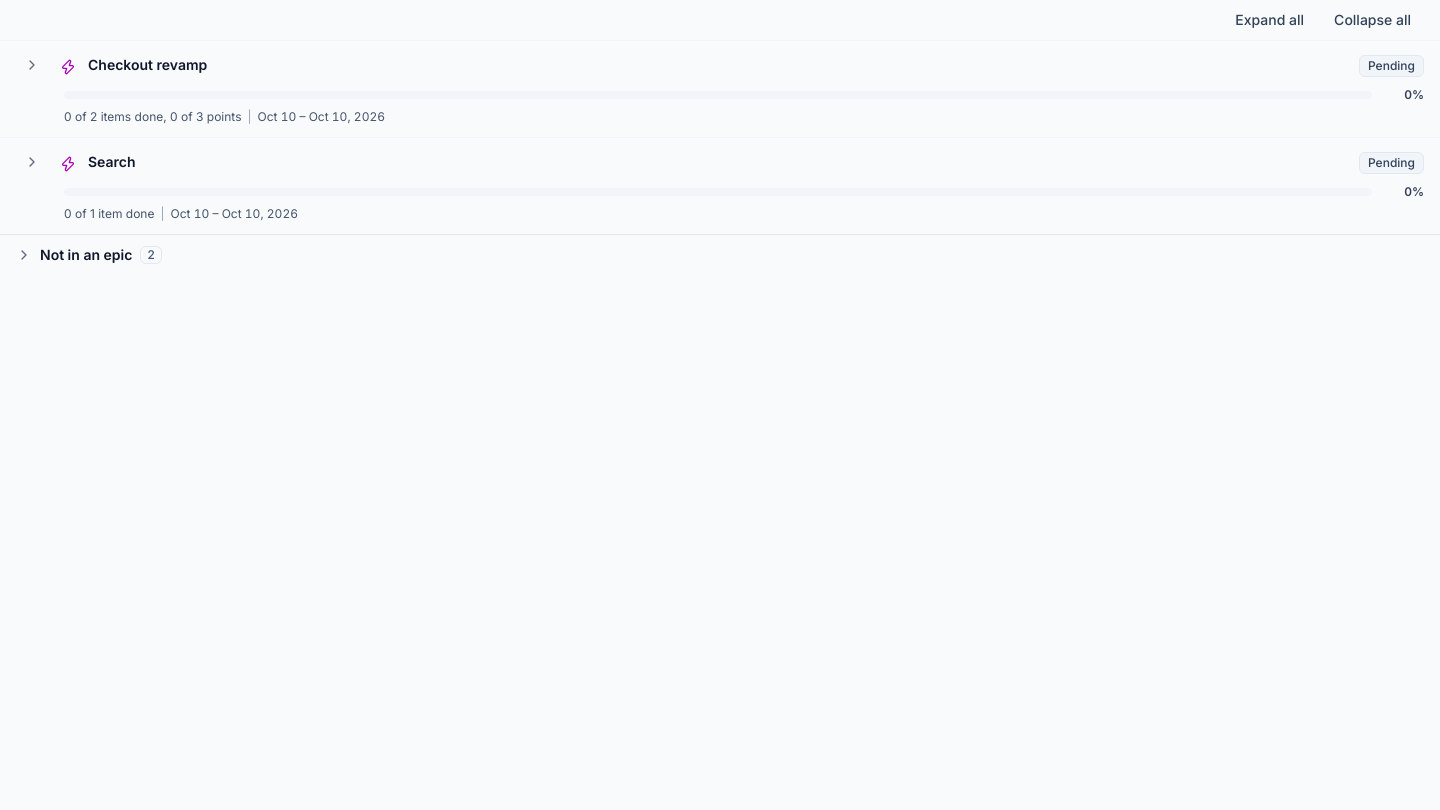
epic hierarchy › keeps the link dialog open and shows the error when linking fails
Click the button named "Expand items of Checkout revamp" at (32, 65), box [16,49,48,81]
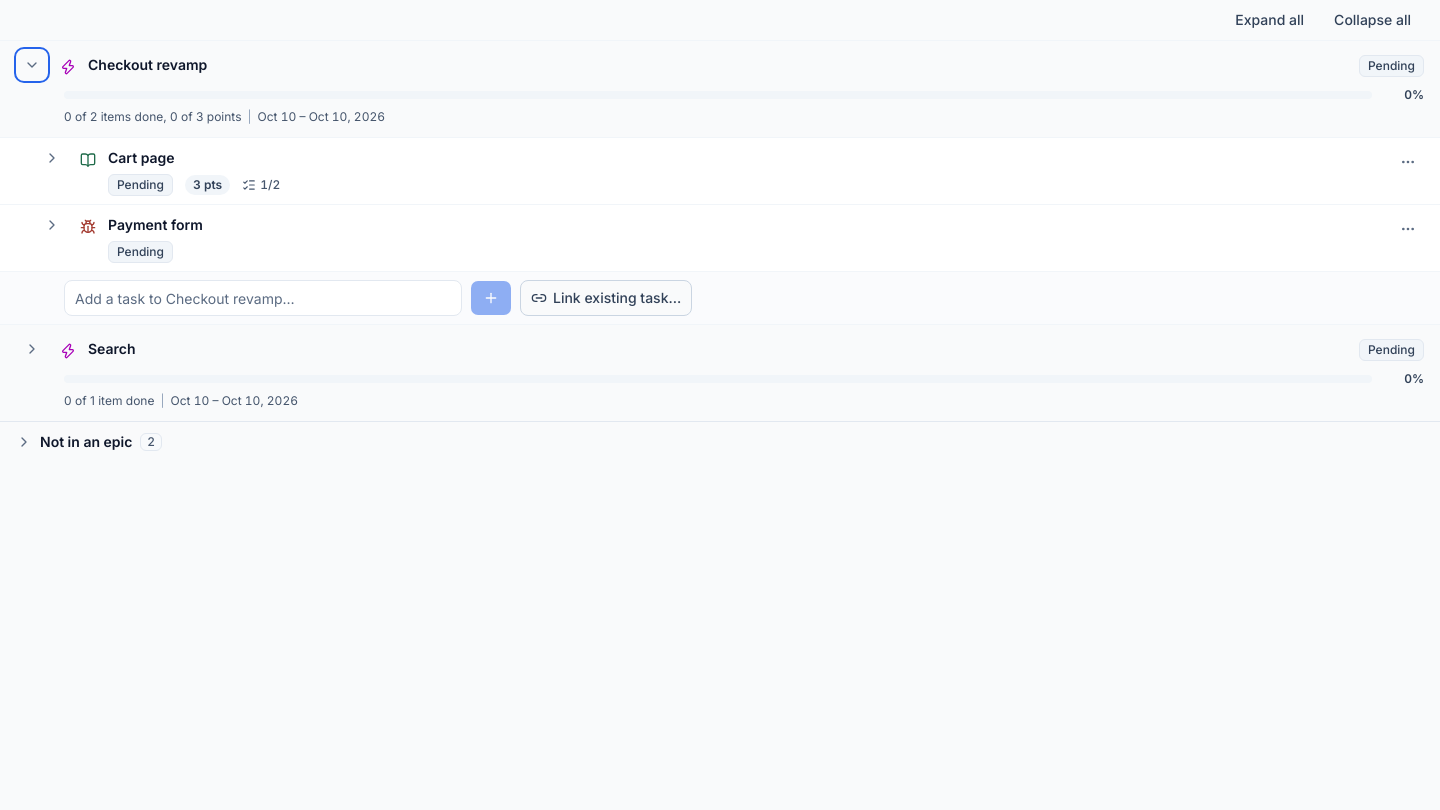
Click the button "Link existing task…" at (606, 298), box [520,280,692,316]
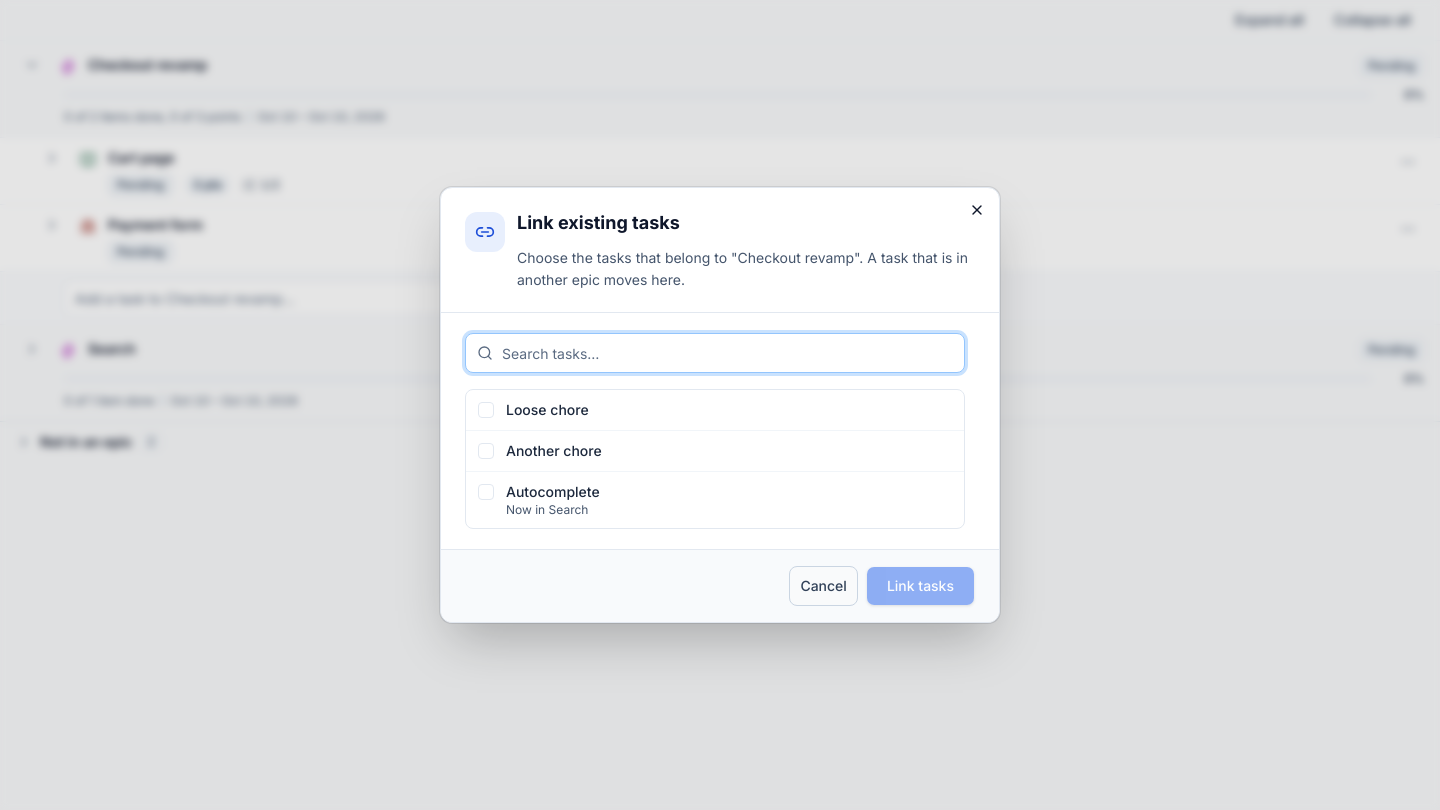
Click the checkbox named "Loose chore" next to "Loose chore" at (486, 410), box [478,402,494,418]
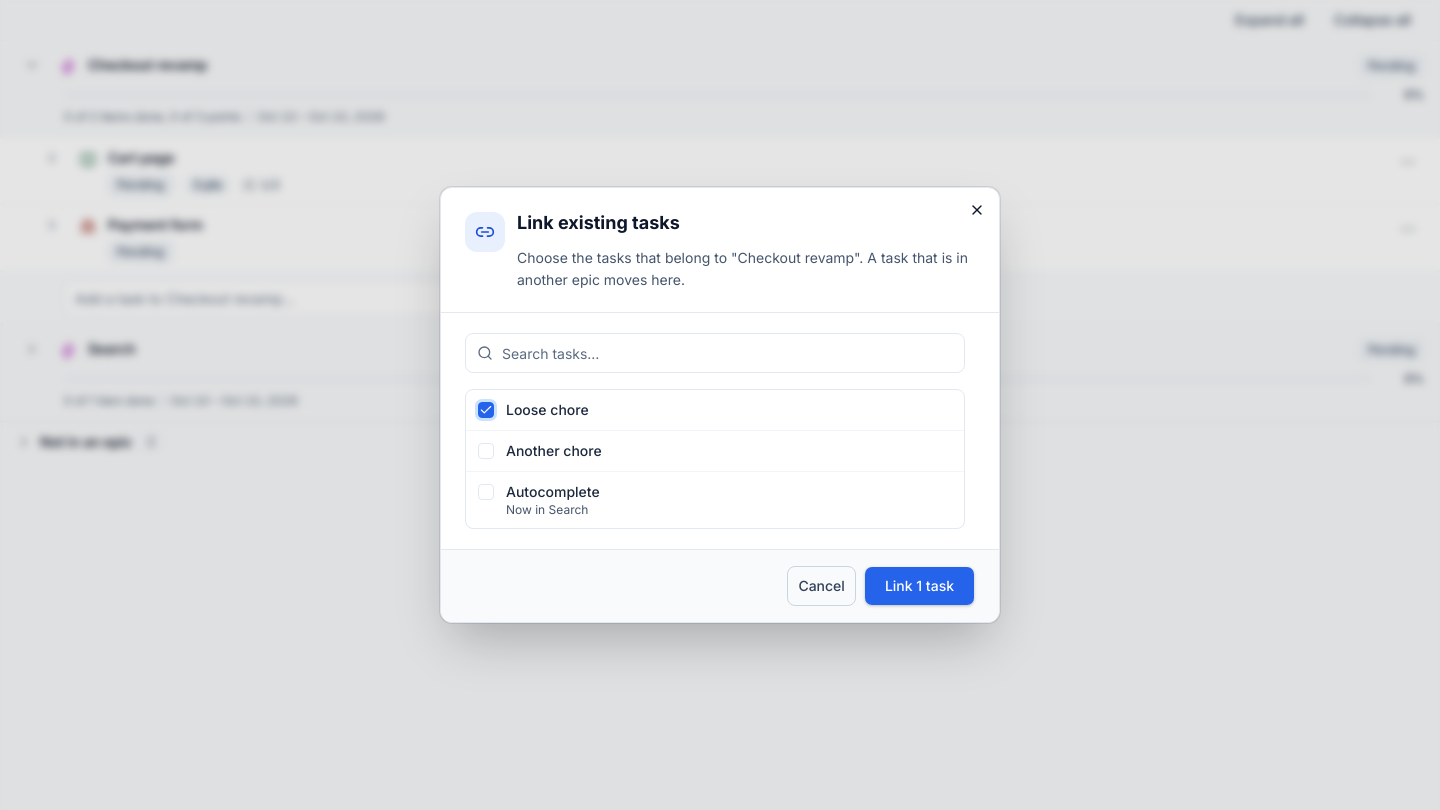
Click the button "Link 1 task" at (919, 586), box [864,566,975,606]
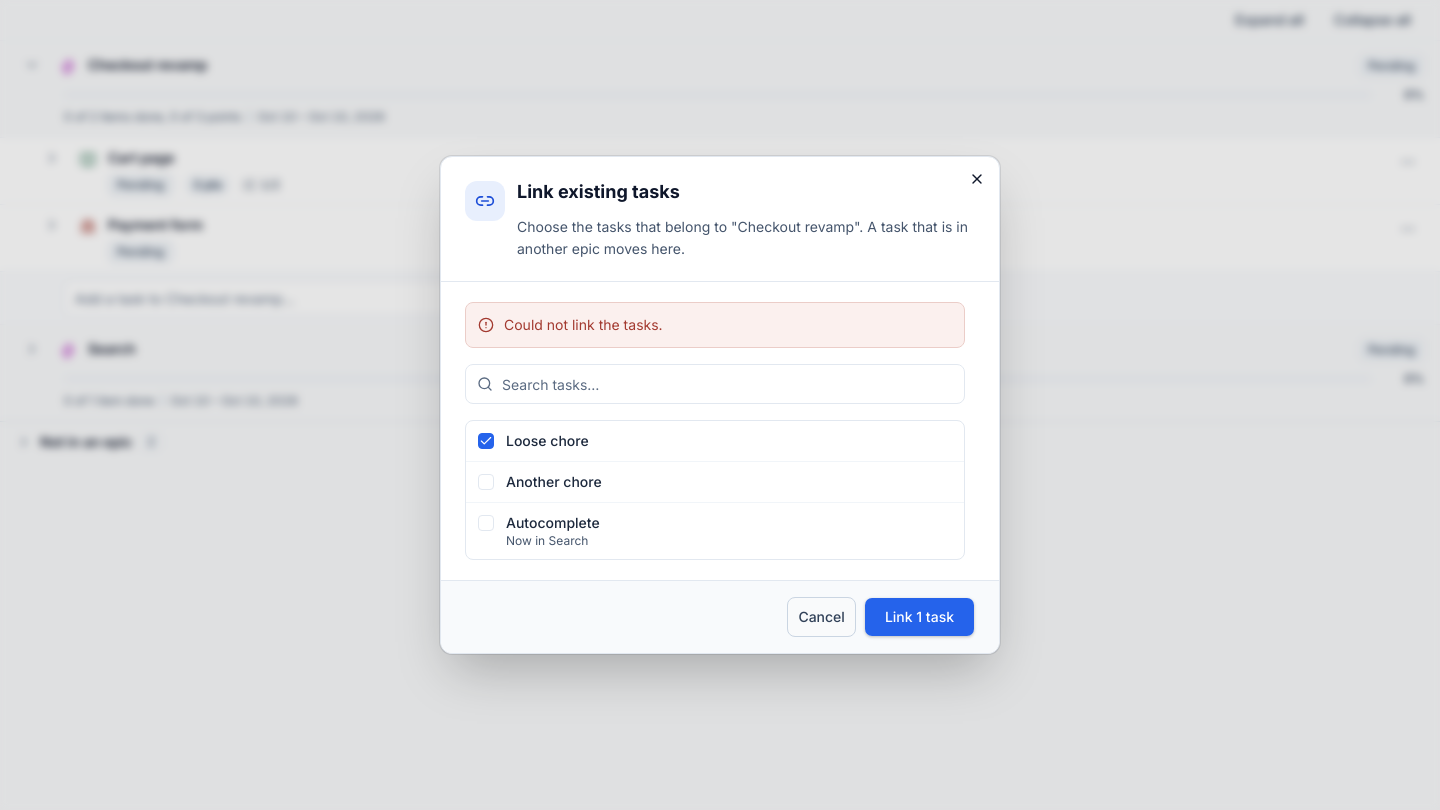
Check: the text "Could not link the tasks." is shown, box [504,316,663,333]
